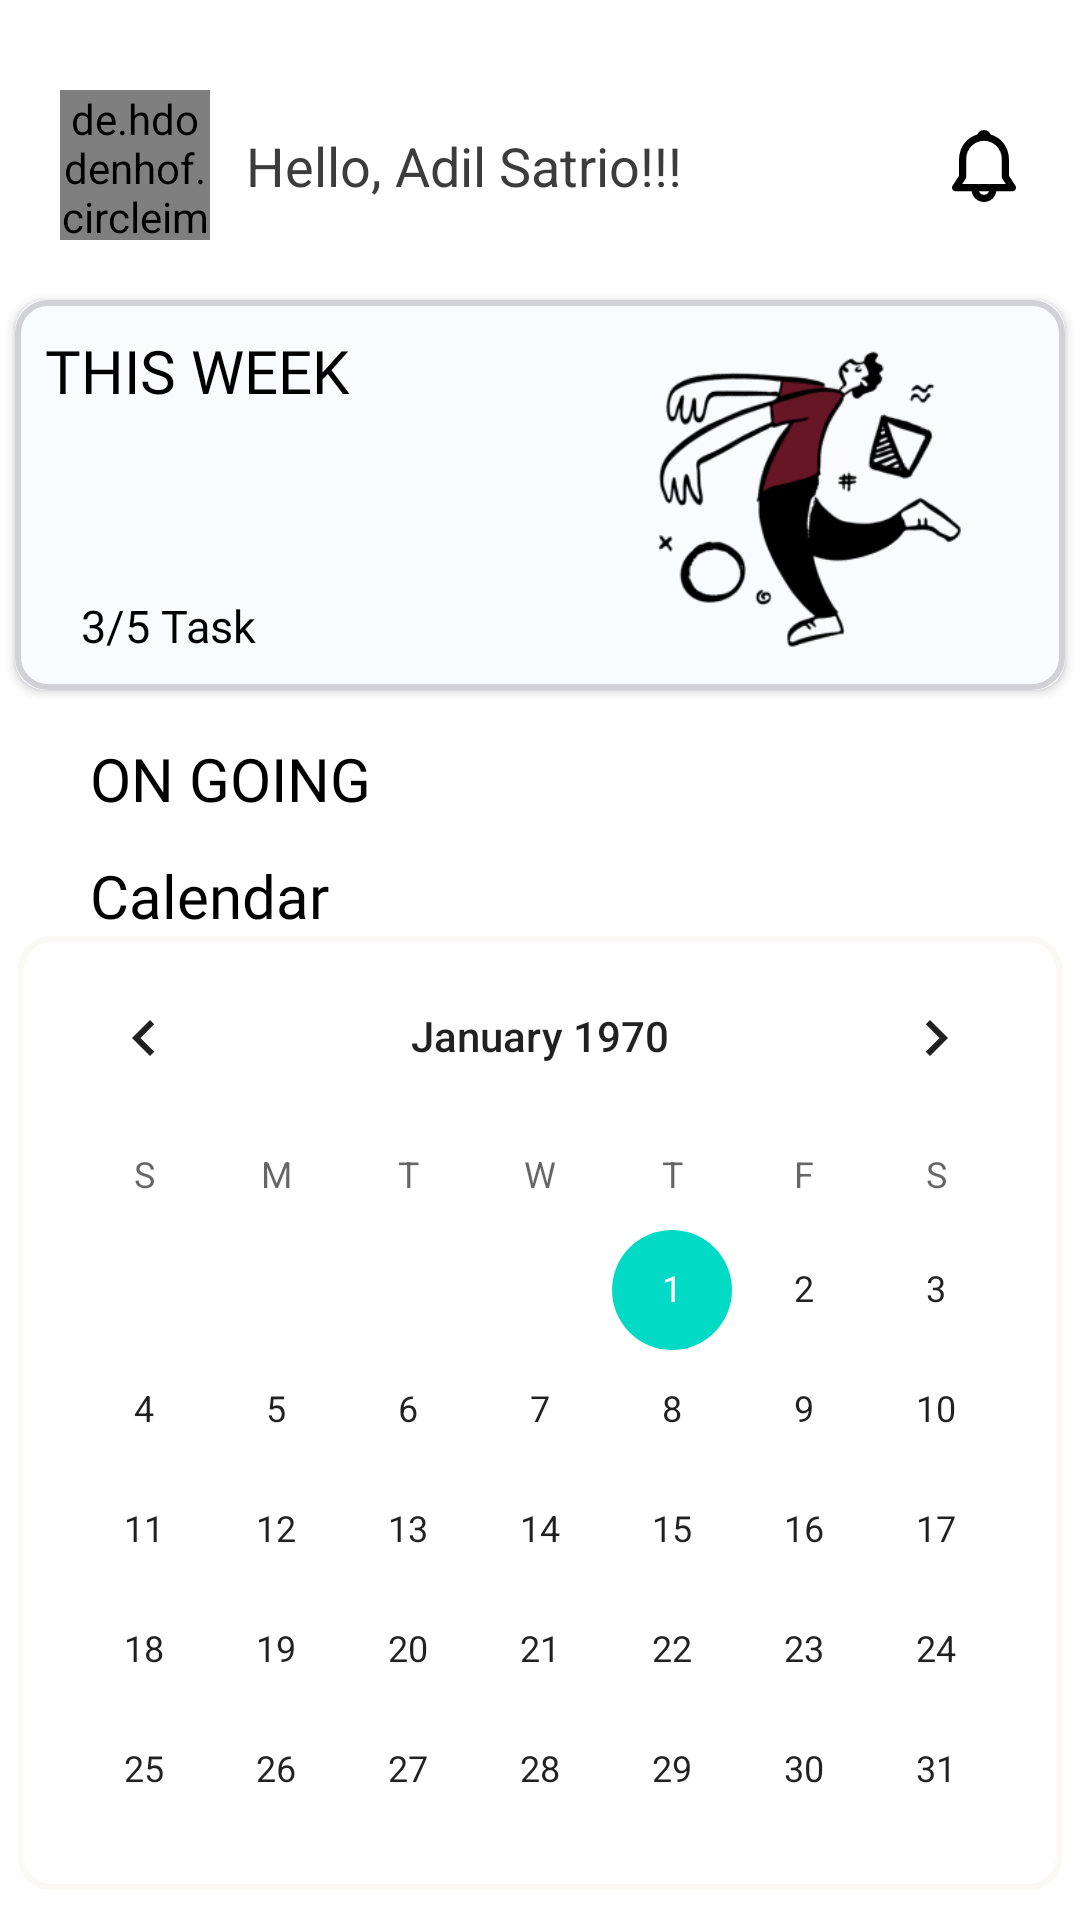

Icon bounding boxes for this 1080*1920 phone screenshot, format [left=x1, top=y1, right=x2, bottom=y2]:
baner: [left=659, top=351, right=961, bottom=647]
notif: [left=952, top=130, right=1016, bottom=202]
